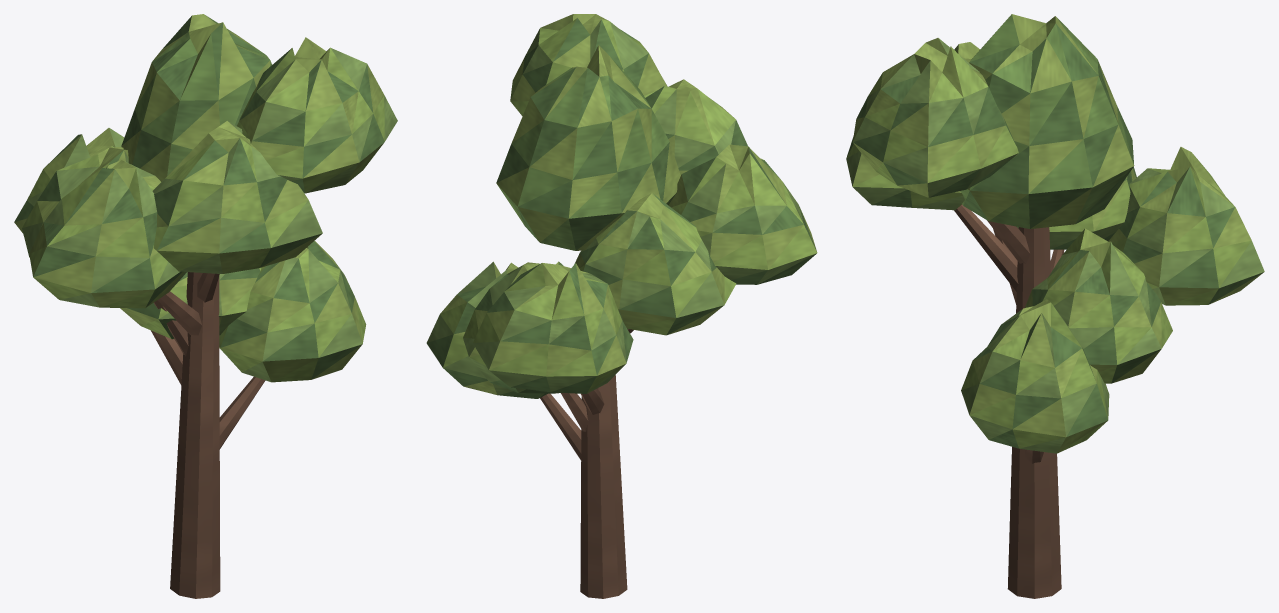
File: tree_oak_01.fbx
3 renders of one model, left to right at view 1: azimuth 30°, elevation 25°; view 2: azimuth 150°, elevation 25°; view 3: azimuth 270°, elevation 25°, orthographic. The views are drawn at different scales.
Visible parts, largest first — view 1: tree_oak_01; view 2: tree_oak_01; view 3: tree_oak_01.
Part boxes in pixels (bbox=[...]): tree_oak_01: bbox=[14, 14, 397, 598]; tree_oak_01: bbox=[426, 14, 817, 598]; tree_oak_01: bbox=[846, 14, 1264, 598].
Size of the model in its own units: 582 by 860 by 560.
1 material, 1 textured.
